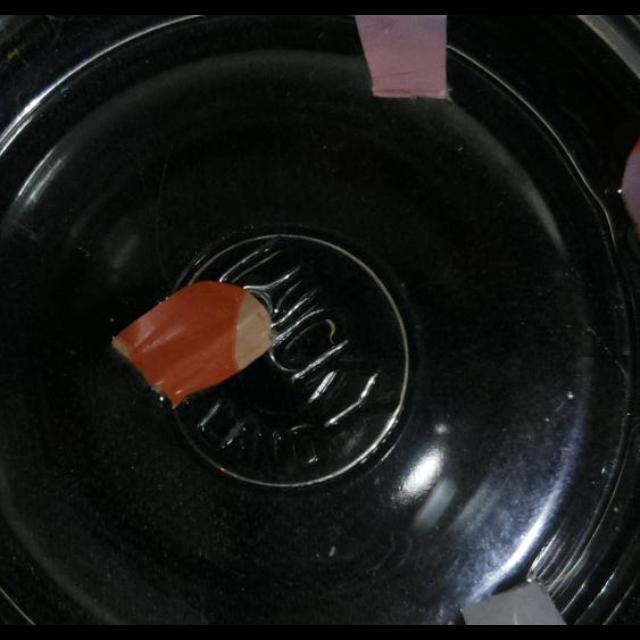Fragment: (111, 281, 271, 409), (352, 18, 452, 100), (460, 583, 570, 625)
